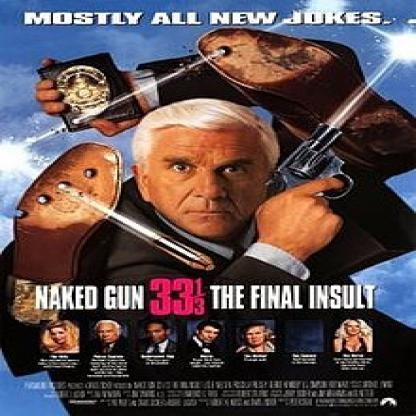Pistol: (250, 118, 388, 221)
